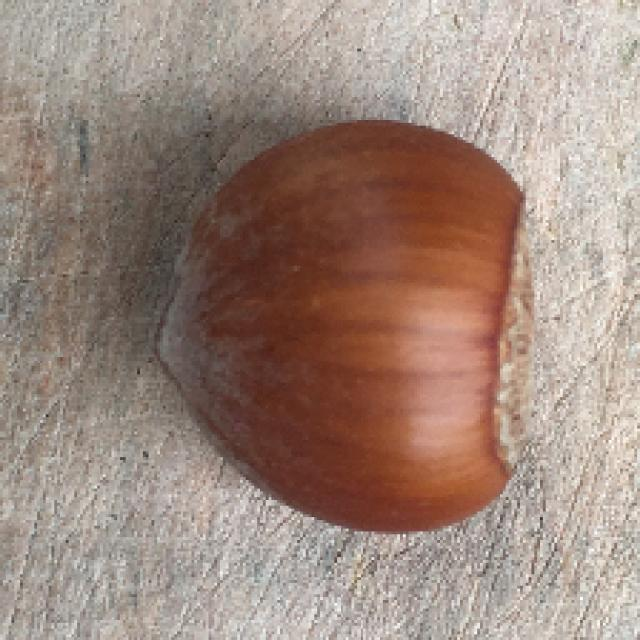qualityHazelnut: (150, 106, 548, 543)
